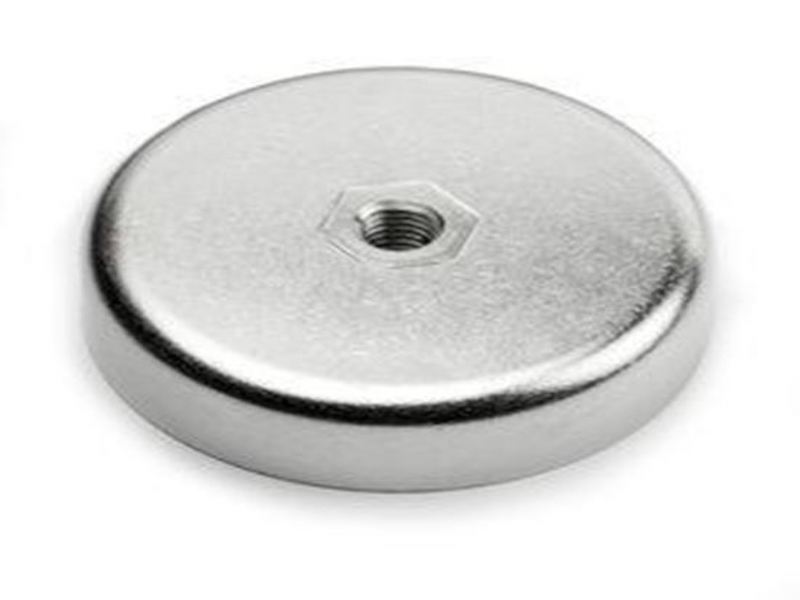hole: (355, 195, 448, 257)
